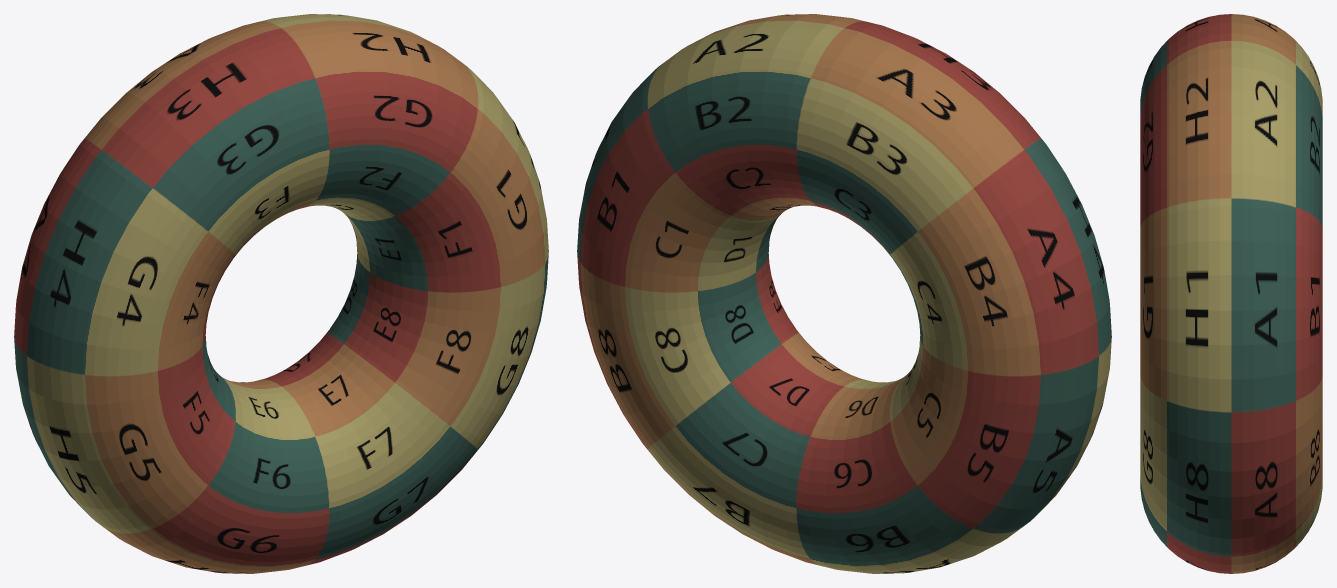
File: texture_torus_R16_r30.glb
3 renders of one model, left to right at view 1: azimuth 30°, elevation 25°; view 2: azimuth 150°, elevation 25°; view 3: azimuth 270°, elevation 25°, orthographic. The views are drawn at different scales.
Visible parts, largest first — view 1: world; view 2: world; view 3: world.
Boxes of the visible parts, box(x1,y1,x2,y2) form: world: box(14, 14, 548, 573); world: box(577, 14, 1111, 573); world: box(1140, 14, 1322, 573).
Bounding box in the file's own units: 30.67 × 30.61 × 9.98.
1 material, 1 textured.
